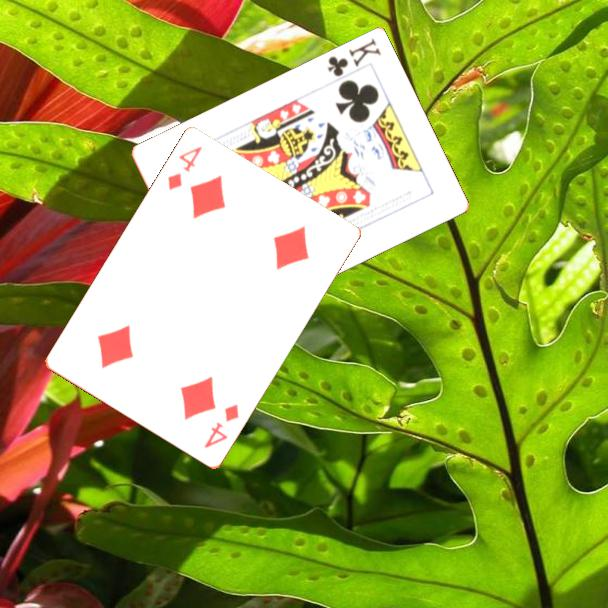c13: (323, 35, 384, 80)
d04: (164, 143, 205, 194), (201, 401, 242, 451)
